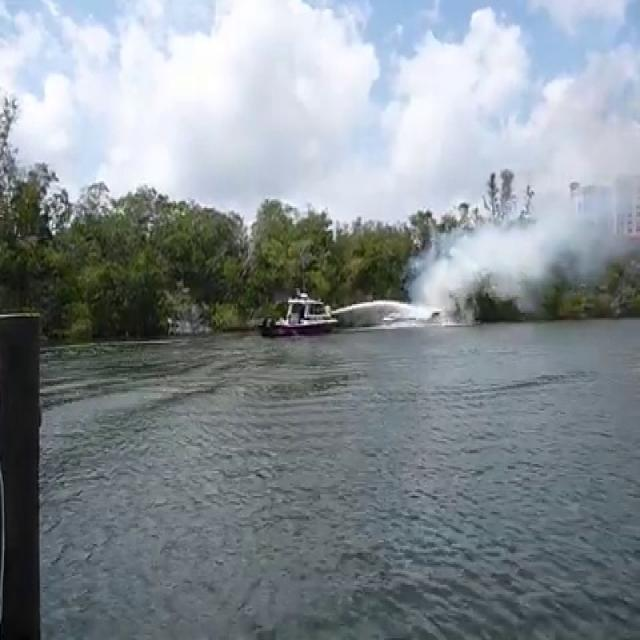Smoke: (413, 129, 640, 321)
